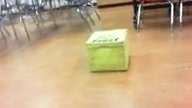cube: (85, 29, 128, 74)
